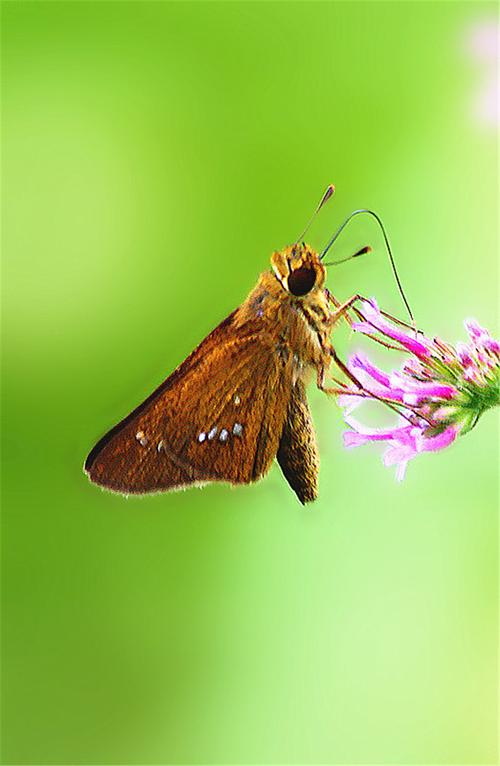Hesperiidae: (84, 164, 414, 510)
